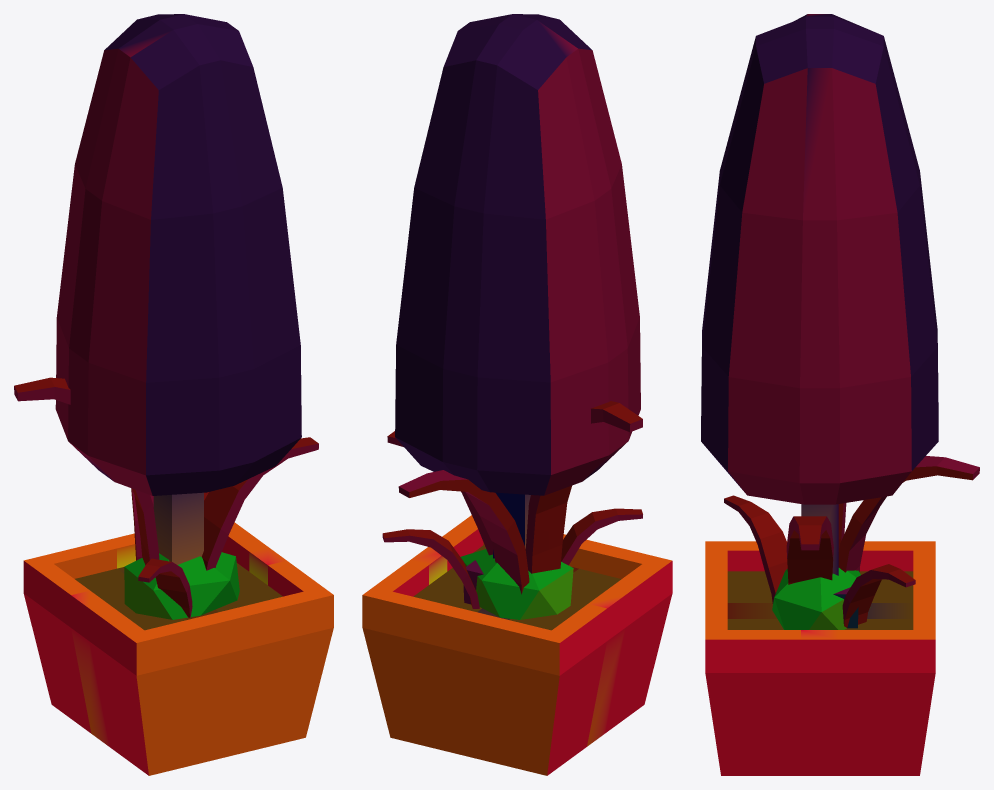
File: SmallPlants.fbx
3 views of the same model, side by side, from view 1: azimuth 30°, elevation 25°; view 2: azimuth 150°, elevation 25°; view 3: azimuth 270°, elevation 25° (orthographic). The views are drawn at different scales.
Visible parts, largest first — view 1: Small.Plant_05, Small.Plant_04, Small.Plant_01; view 2: Small.Plant_05, Small.Plant_04, Small.Plant_01; view 3: Small.Plant_05, Small.Plant_04, Small.Plant_01.
Part boxes in pixels (box(x1,y1,x2,y2)): Small.Plant_05: box(23, 14, 333, 775); Small.Plant_04: box(14, 377, 318, 617); Small.Plant_01: box(124, 552, 239, 619); Small.Plant_05: box(362, 14, 672, 775); Small.Plant_04: box(382, 401, 642, 608); Small.Plant_01: box(460, 549, 573, 619); Small.Plant_05: box(701, 14, 938, 775); Small.Plant_04: box(724, 456, 979, 627); Small.Plant_01: box(772, 568, 870, 629).
Bounding box in the file's own units: 46.38 × 113 × 40.04.
